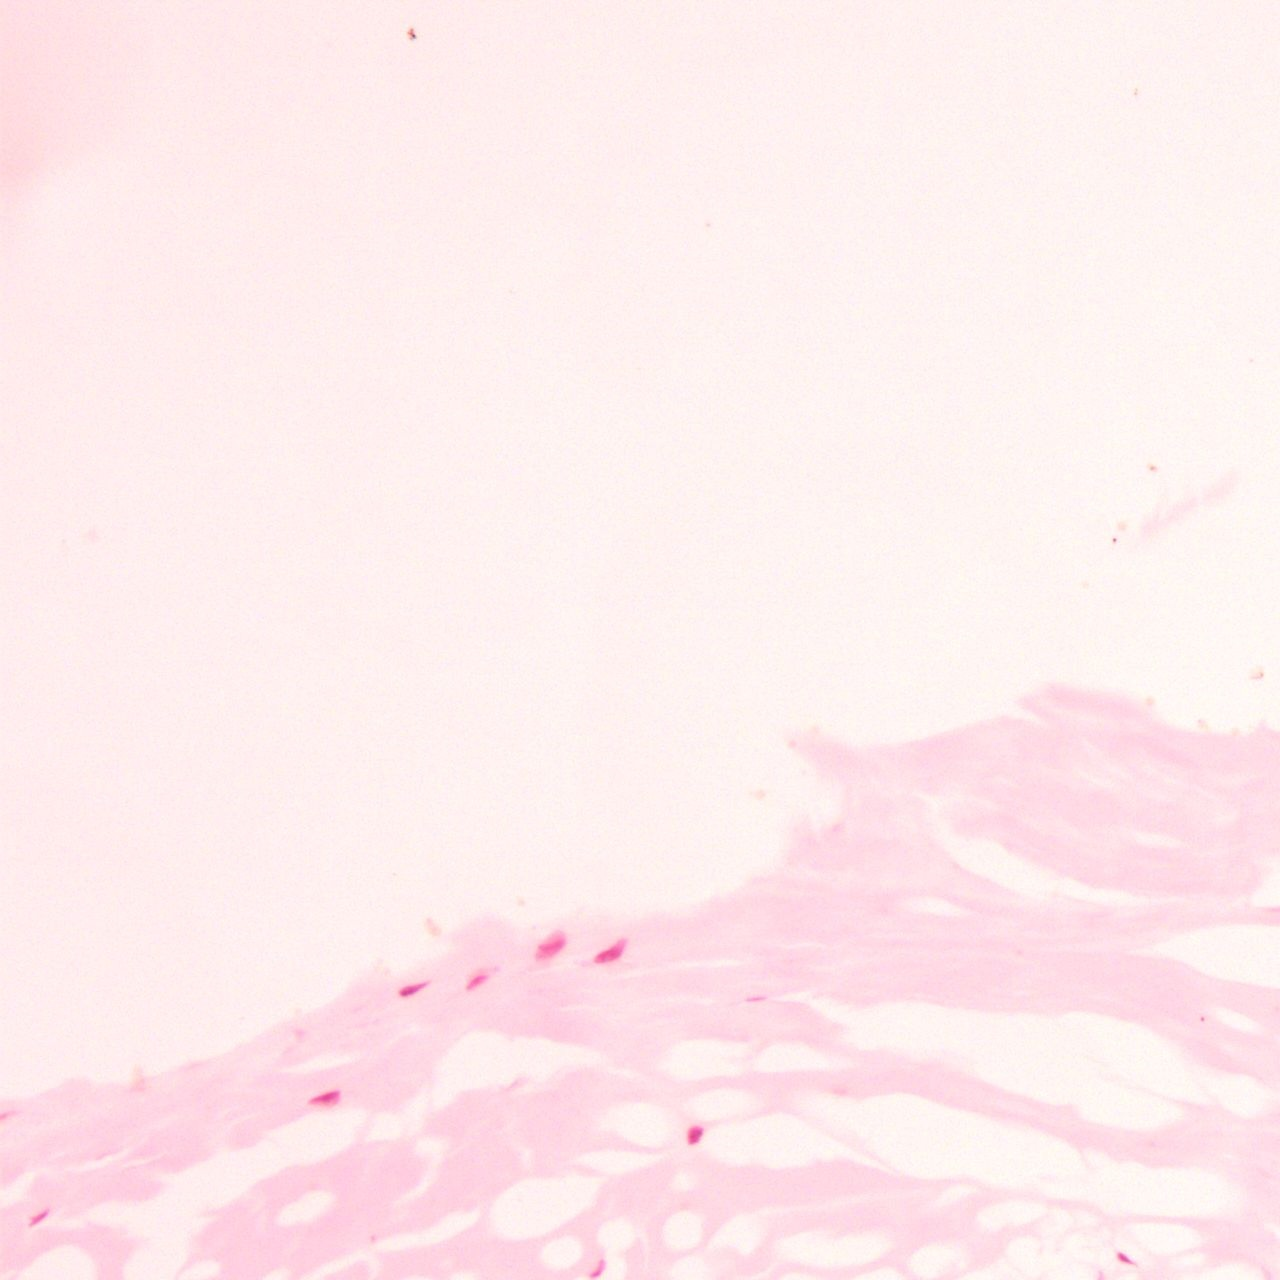dust: (406, 28, 416, 41), (1146, 464, 1159, 474), (1132, 87, 1139, 97), (1199, 1016, 1205, 1022), (1112, 537, 1116, 543), (1259, 672, 1263, 678)
nucleus-AC: (531, 927, 570, 965), (304, 1084, 346, 1114), (592, 937, 630, 968), (396, 975, 437, 1000), (463, 970, 491, 991), (28, 1206, 52, 1228), (1113, 1248, 1137, 1270), (686, 1124, 703, 1146)
